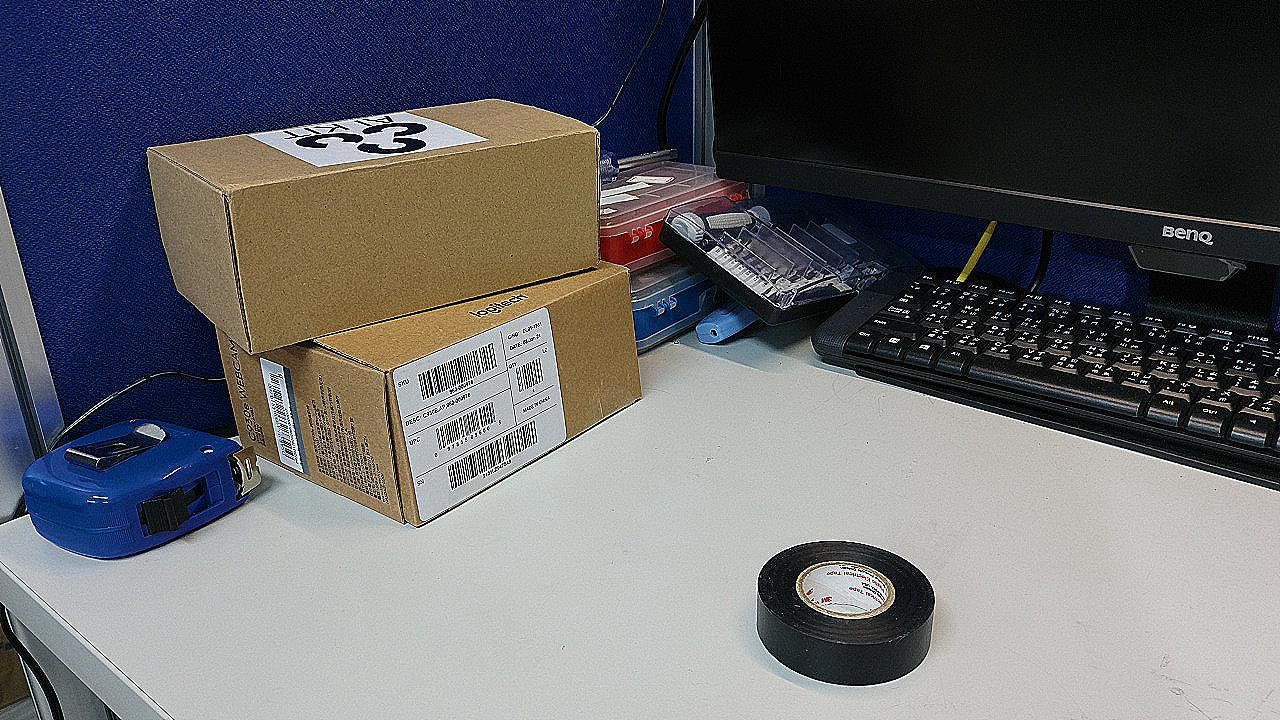circle: (514, 271, 566, 297)
